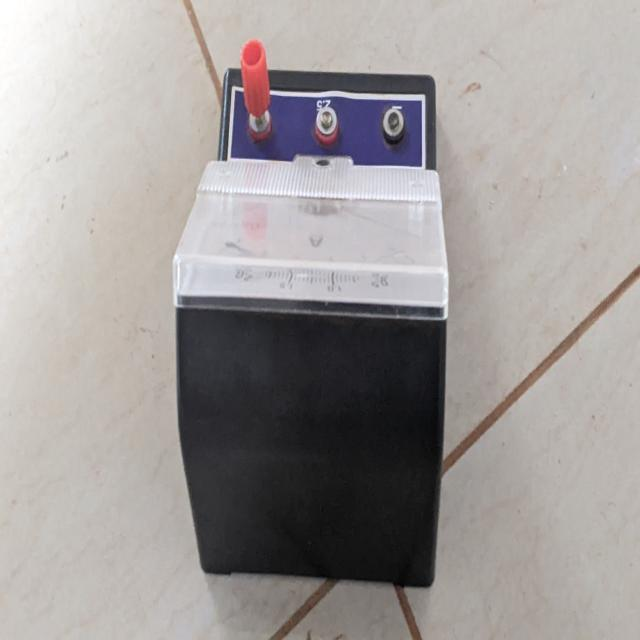Ammeter Analog: (170, 37, 454, 594)
